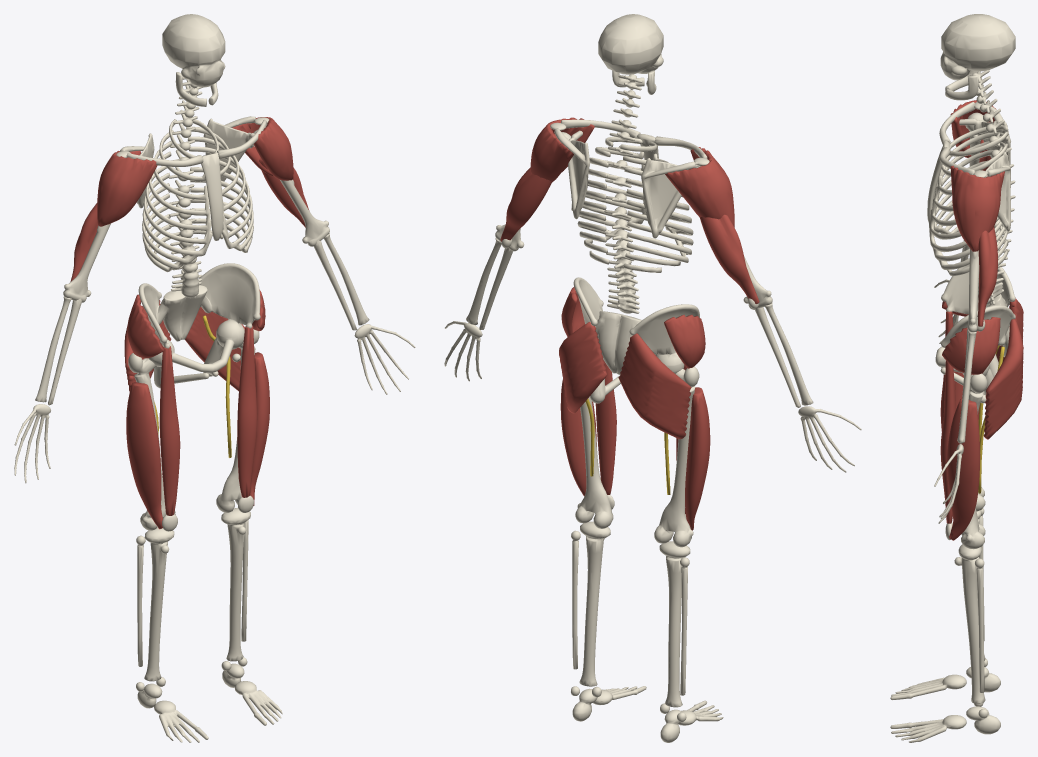
The model's file is adult_anatomy.glb.
3 views of the same model, side by side, from view 1: azimuth 30°, elevation 25°; view 2: azimuth 150°, elevation 25°; view 3: azimuth 270°, elevation 25° (orthographic). The views are drawn at different scales.
Visible parts, largest first — view 1: Adult_Bone_Pelvis, Adult_Bone_Ribs, Adult_Bone_Skull, Adult_Muscle_VastusLateralis_R, Adult_Muscle_Deltoid_R, Adult_Bone_Spine, Adult_Muscle_RectusFemoris_L, Adult_Muscle_RectusFemoris_R, Adult_Bone_Tibia_L, Adult_Bone_Tibia_R, Adult_Muscle_Deltoid_L, Adult_Muscle_GluteusMaximus_L (+19 smaller); view 2: Adult_Bone_Ribs, Adult_Bone_Pelvis, Adult_Muscle_GluteusMaximus_R, Adult_Bone_Skull, Adult_Bone_Spine, Adult_Muscle_GluteusMaximus_L, Adult_Muscle_Deltoid_R, Adult_Bone_Femur_R, Adult_Bone_Tibia_L, Adult_Muscle_VastusLateralis_R, Adult_Bone_Tibia_R, Adult_Bone_Scapula_R (+19 smaller); view 3: Adult_Bone_Skull, Adult_Bone_Ribs, Adult_Muscle_VastusLateralis_L, Adult_Bone_Pelvis, Adult_Muscle_Deltoid_L, Adult_Muscle_GluteusMaximus_L, Adult_Bone_Tibia_L, Adult_Muscle_GluteusMedius_L, Adult_Bone_FootBones_L, Adult_Bone_Spine, Adult_Muscle_Triceps_L, Adult_Bone_FootBones_R (+17 smaller).
Part boxes in pixels (<box>): Adult_Bone_Pelvis: <box>138,263,260,388</box>; Adult_Bone_Ribs: <box>142,117,253,272</box>; Adult_Bone_Skull: <box>162,14,225,106</box>; Adult_Muscle_VastusLateralis_R: <box>126,382,162,529</box>; Adult_Muscle_Deltoid_R: <box>97,150,157,226</box>; Adult_Bone_Spine: <box>168,77,202,297</box>; Adult_Muscle_RectusFemoris_L: <box>237,326,257,497</box>; Adult_Muscle_RectusFemoris_R: <box>159,346,180,515</box>; Adult_Bone_Tibia_L: <box>221,508,250,670</box>; Adult_Bone_Tibia_R: <box>144,527,174,686</box>; Adult_Muscle_Deltoid_L: <box>232,117,293,180</box>; Adult_Muscle_GluteusMaximus_L: <box>185,307,245,391</box>; Adult_Bone_Ribs: <box>577,136,693,272</box>; Adult_Bone_Pelvis: <box>573,277,699,403</box>; Adult_Muscle_GluteusMaximus_R: <box>618,333,691,439</box>; Adult_Bone_Skull: <box>598,14,663,94</box>; Adult_Bone_Spine: <box>604,74,642,313</box>; Adult_Muscle_GluteusMaximus_L: <box>559,322,607,413</box>; Adult_Muscle_Deltoid_R: <box>665,147,734,227</box>; Adult_Bone_Femur_R: <box>654,366,699,547</box>; Adult_Bone_Tibia_L: <box>579,521,610,697</box>; Adult_Muscle_VastusLateralis_R: <box>685,387,710,530</box>; Adult_Bone_Tibia_R: <box>659,541,690,713</box>; Adult_Bone_Scapula_R: <box>641,157,709,238</box>; Adult_Bone_Skull: <box>940,14,1015,100</box>; Adult_Bone_Ribs: <box>929,125,1008,275</box>; Adult_Muscle_VastusLateralis_L: <box>946,398,980,540</box>; Adult_Bone_Pelvis: <box>935,264,1015,395</box>; Adult_Muscle_Deltoid_L: <box>950,165,1004,251</box>; Adult_Muscle_GluteusMaximus_L: <box>983,319,1023,439</box>; Adult_Bone_Tibia_L: <box>954,544,985,706</box>; Adult_Muscle_GluteusMedius_L: <box>942,317,1000,374</box>; Adult_Bone_FootBones_L: <box>890,706,1000,742</box>; Adult_Bone_Spine: <box>972,70,1015,304</box>; Adult_Muscle_Triceps_L: <box>978,227,997,326</box>; Adult_Bone_FootBones_R: <box>890,667,1000,700</box>.
Bounding box in the file's own units: 1.03 × 1.69 × 0.2917.
